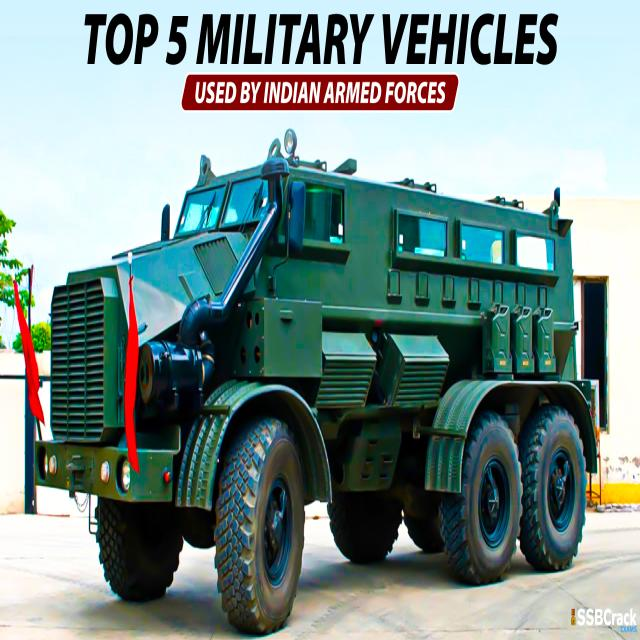truck: (35, 129, 598, 633)
